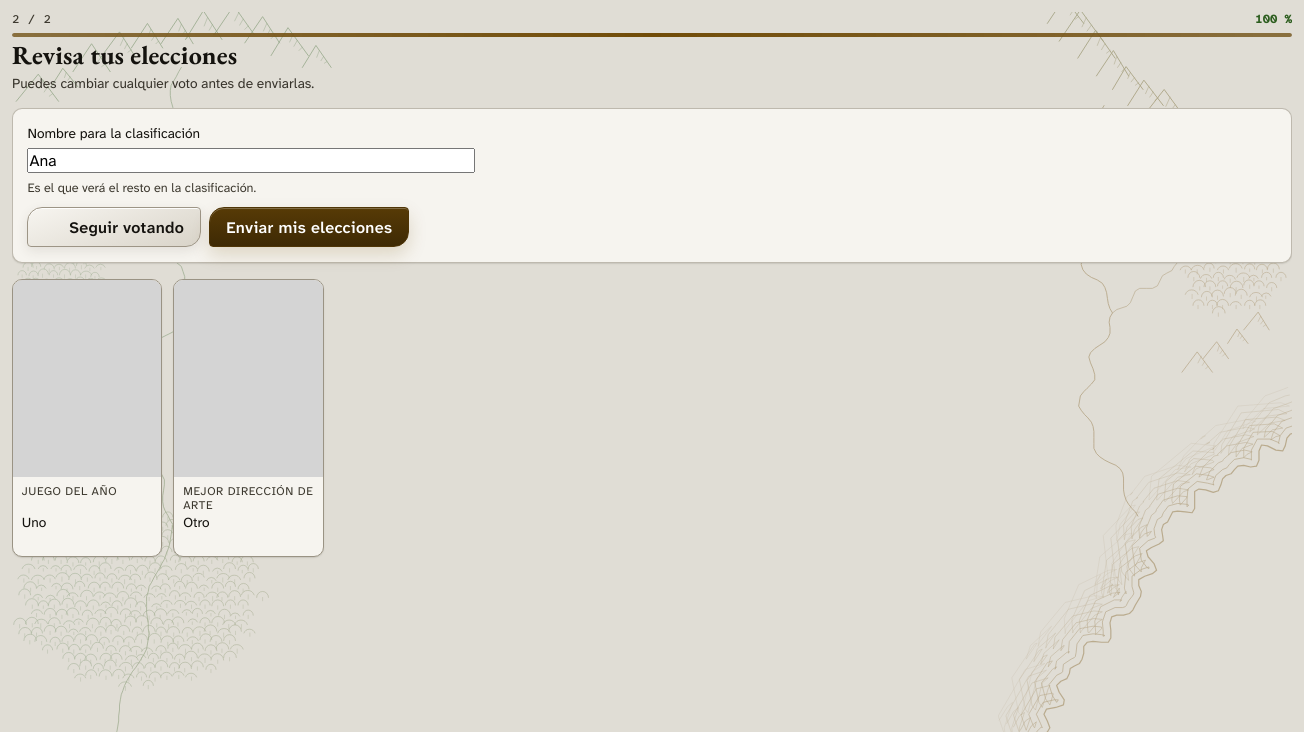
PremiosReviewScreen › sin nombre tampoco se envía: es lo que sale en la clasificación
Clear the field labelled "Nombre para la clasificación" at (251, 161), box [27, 148, 475, 173]
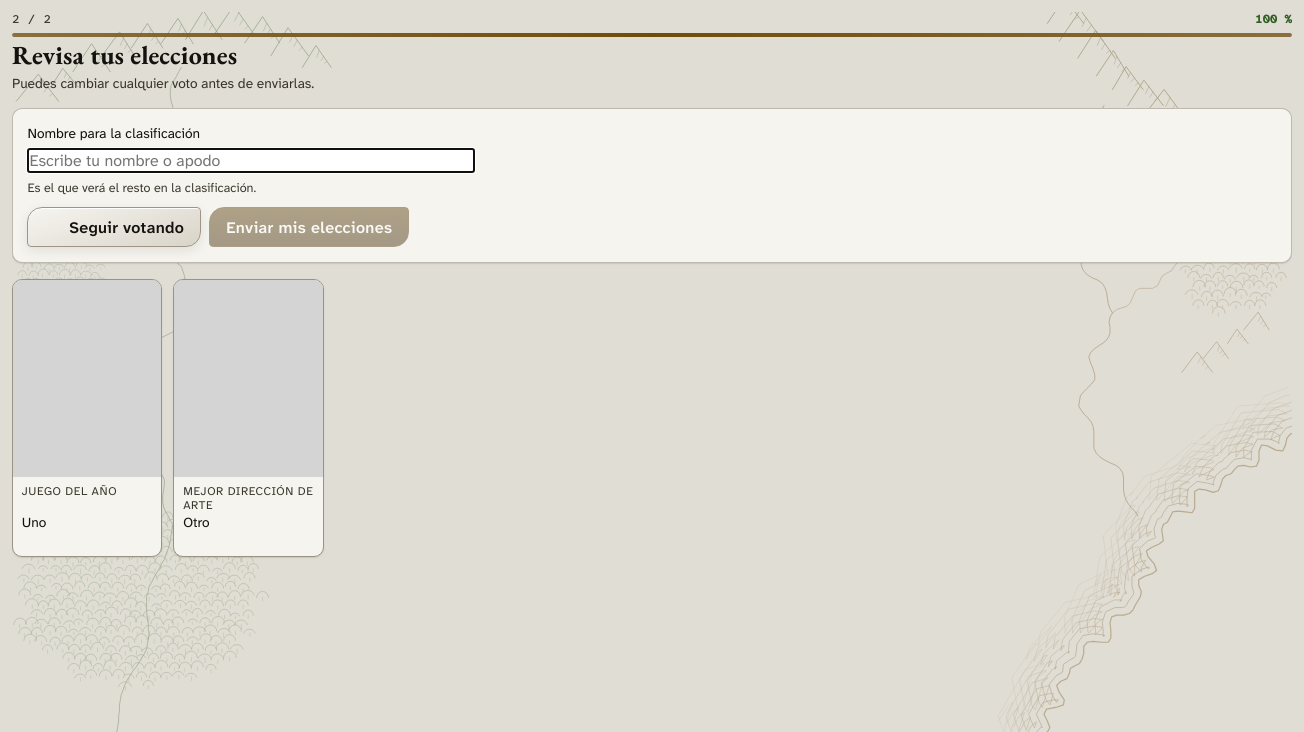
Check: the button "Enviar mis elecciones" is disabled, box [209, 207, 409, 247]
